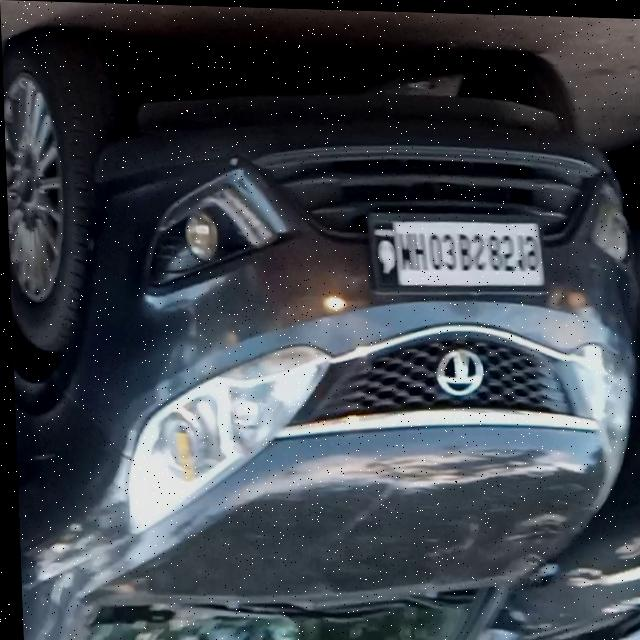plate: (358, 198, 550, 305)
